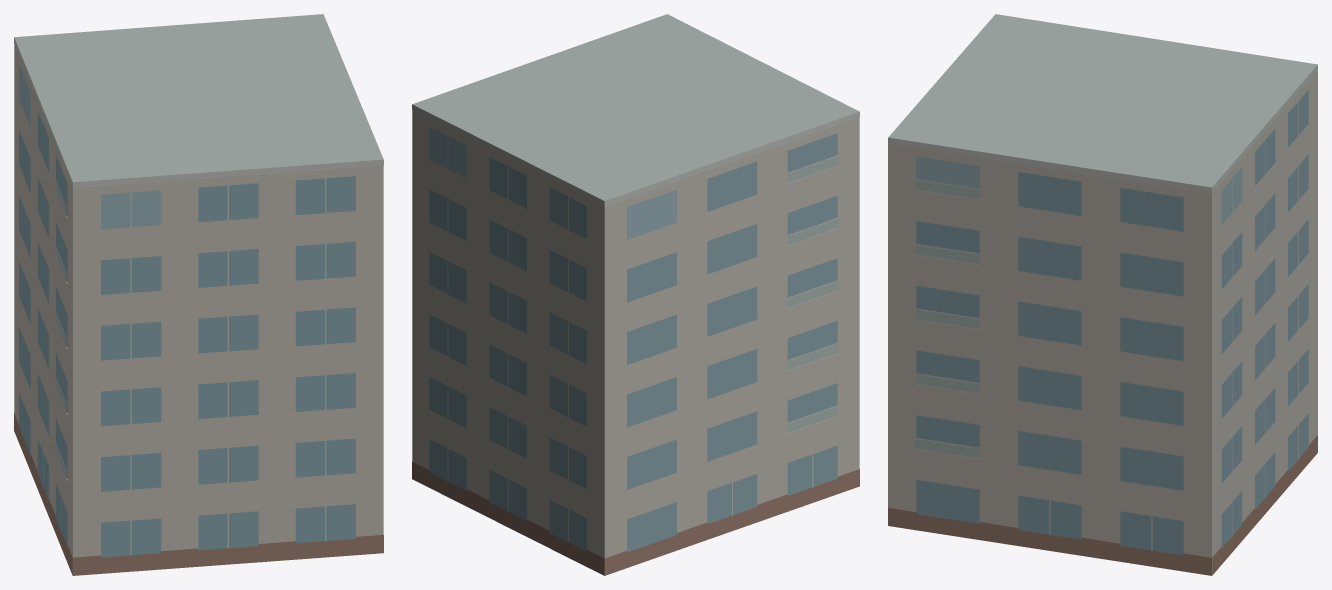
File: survey-upis-32948715.glb
3 renders of one model, left to right at view 1: azimuth 30°, elevation 25°; view 2: azimuth 150°, elevation 25°; view 3: azimuth 270°, elevation 25°, orthographic. The views are drawn at different scales.
Parts seen in each view (by area): view 1: survey-upis-32948715.tmp; view 2: survey-upis-32948715.tmp; view 3: survey-upis-32948715.tmp.
Boxes of the visible parts, x1=… form: survey-upis-32948715.tmp: x1=14, y1=14, x2=383, y2=575; survey-upis-32948715.tmp: x1=412, y1=14, x2=859, y2=575; survey-upis-32948715.tmp: x1=888, y1=14, x2=1317, y2=575.
Size of the model in its own units: 15.15 by 15.8 by 15.85.
